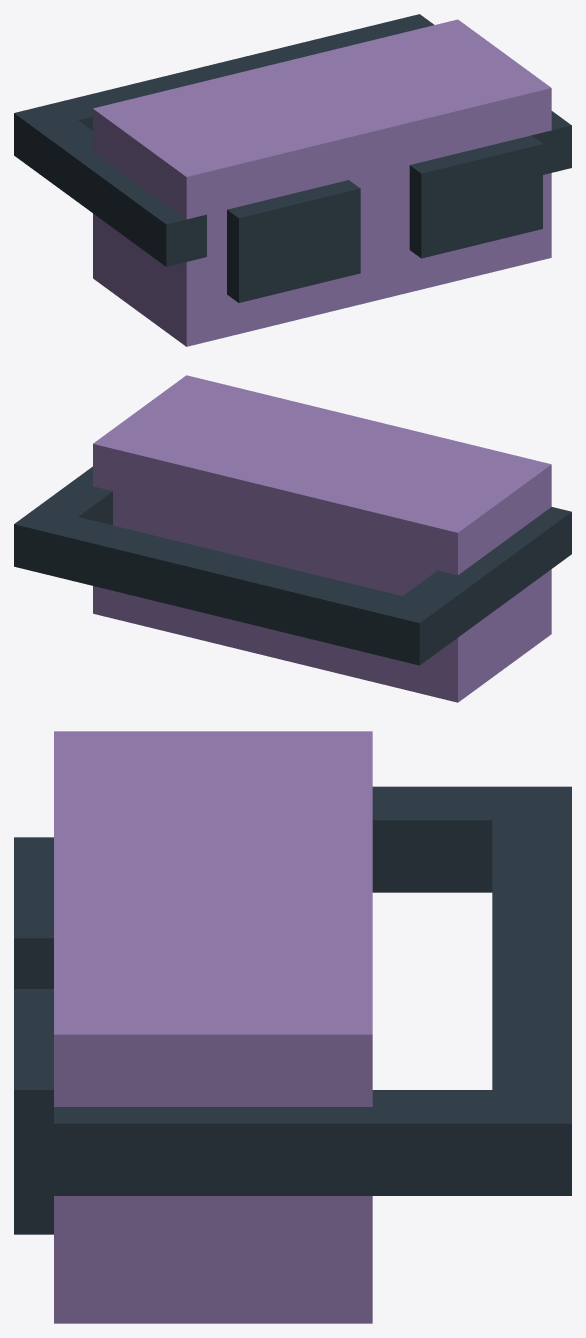
The model's file is games-12.glb.
3 renders of one model, top to bottom at view 1: azimuth 30°, elevation 25°; view 2: azimuth 150°, elevation 25°; view 3: azimuth 270°, elevation 25°, orthographic. The views are drawn at different scales.
Parts seen in each view (by area): view 1: VR headset; view 2: VR headset; view 3: VR headset.
Boxes of the visible parts, x1,y1,x2,y2 form: VR headset: (14, 14, 571, 346); VR headset: (14, 375, 571, 702); VR headset: (14, 731, 571, 1323).
Bounding box in the file's own units: 1.6 × 0.64 × 1.12.
